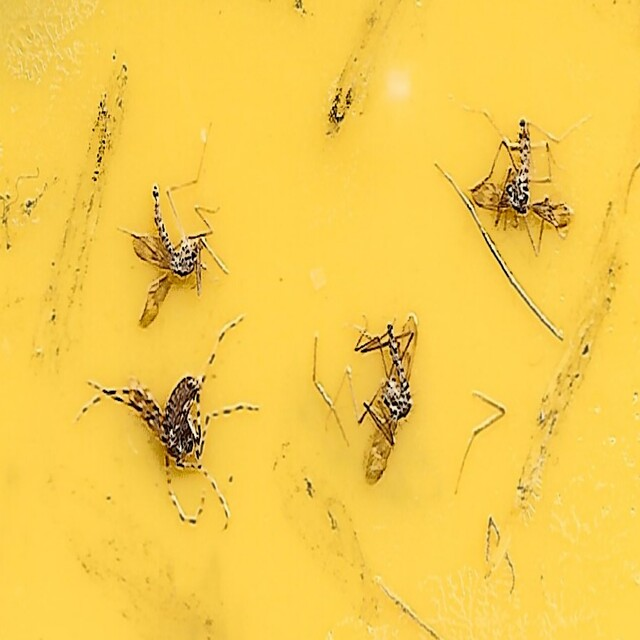Nematocera: (69, 312, 262, 524), (350, 308, 419, 480), (467, 116, 571, 230), (134, 184, 207, 337)
